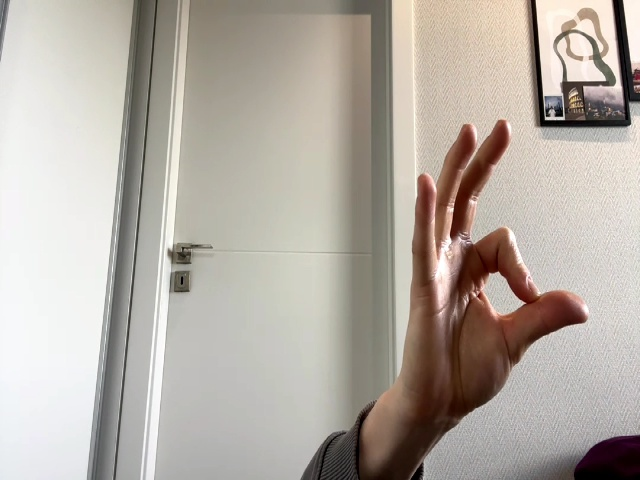S: (401, 120, 589, 414)
